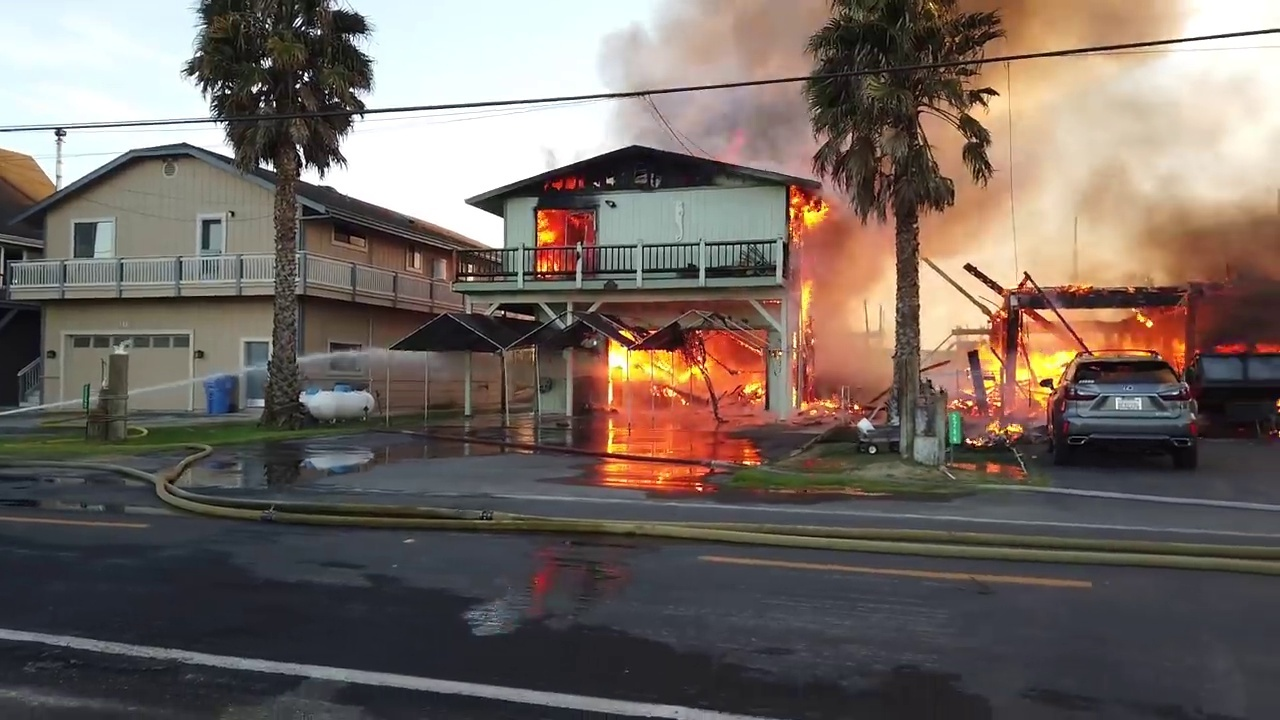fire: (607, 338, 713, 382), (1090, 309, 1182, 356), (536, 209, 596, 279), (786, 173, 833, 246), (1021, 324, 1070, 380), (961, 415, 1023, 449), (1214, 338, 1280, 355), (1055, 277, 1097, 299), (546, 176, 600, 192), (736, 373, 761, 391)
smoke: (1004, 4, 1279, 272), (597, 1, 833, 178), (809, 247, 896, 401), (918, 204, 968, 396), (973, 200, 1008, 314), (917, 111, 970, 182)
